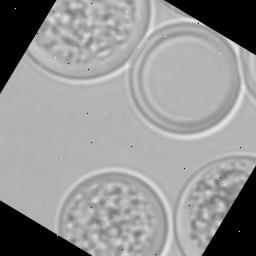picoshell: (127, 21, 243, 137), (55, 169, 173, 256), (28, 0, 153, 81), (175, 153, 256, 256), (239, 48, 256, 102)
